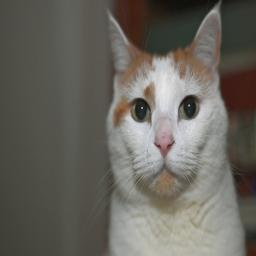catnose: (154, 131, 175, 158)
